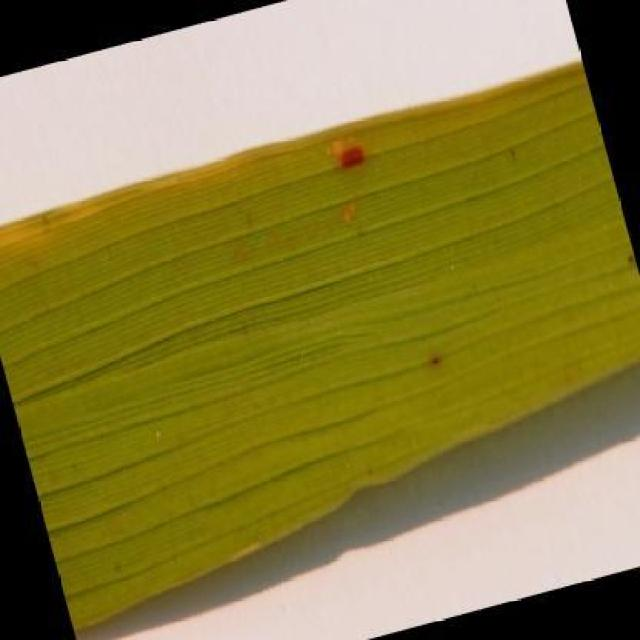Leaf_Blast: (314, 120, 389, 203)
